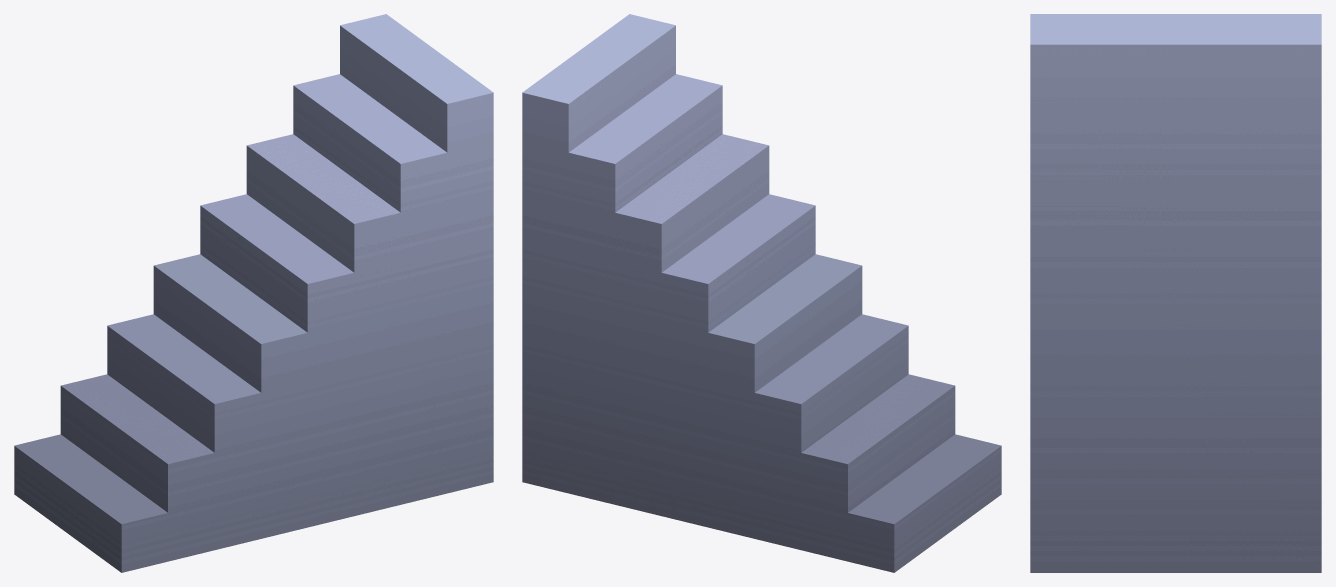
Rendered from stairs-small-narrow.glb.
3 renders of one model, left to right at view 1: azimuth 30°, elevation 25°; view 2: azimuth 150°, elevation 25°; view 3: azimuth 270°, elevation 25°, orthographic. The views are drawn at different scales.
Visible parts, largest first — view 1: stairs-small-narrow; view 2: stairs-small-narrow; view 3: stairs-small-narrow.
Boxes of the visible parts, x1,y1,x2,y2 form: stairs-small-narrow: (14, 14, 493, 572); stairs-small-narrow: (522, 14, 1001, 572); stairs-small-narrow: (1030, 14, 1321, 572).
Size of the model in its own units: 1 by 1 by 0.5.
1 material, 1 textured.
